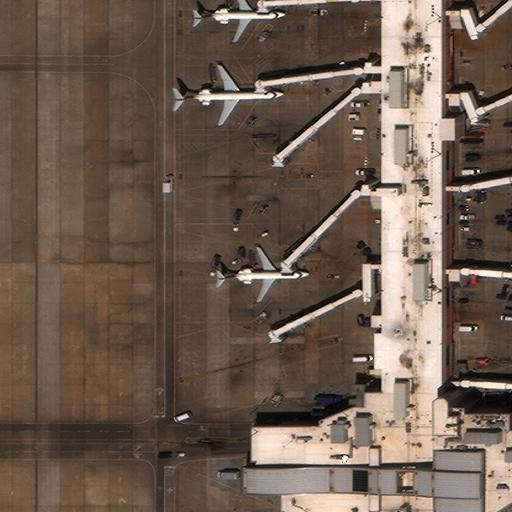Medium Civil Transport: (171, 64, 288, 125), (214, 246, 312, 302), (190, 0, 287, 43)
